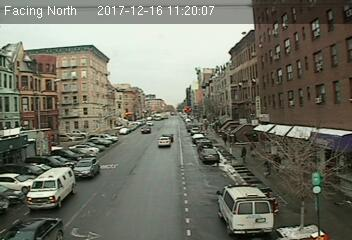car: (74, 157, 100, 179), (200, 148, 221, 165), (158, 137, 170, 146), (141, 126, 151, 134)
pedestrian: (264, 155, 272, 177), (241, 145, 248, 165)
police: (217, 182, 275, 237)
truck: (26, 166, 76, 211)
